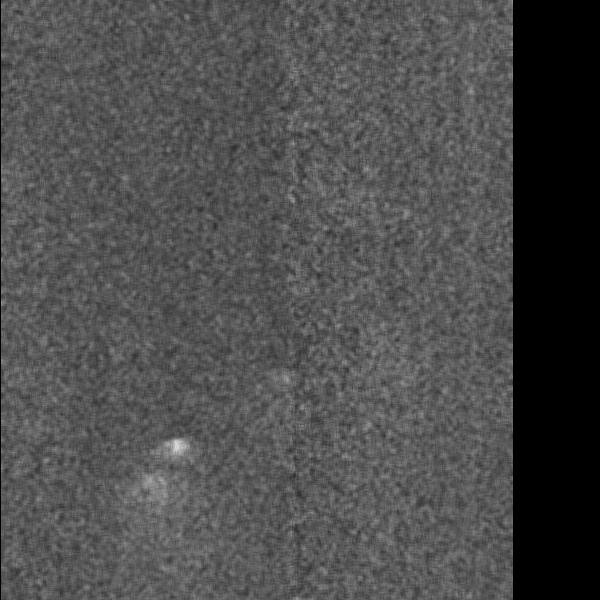spark: (5, 333, 36, 386), (458, 556, 487, 600)
